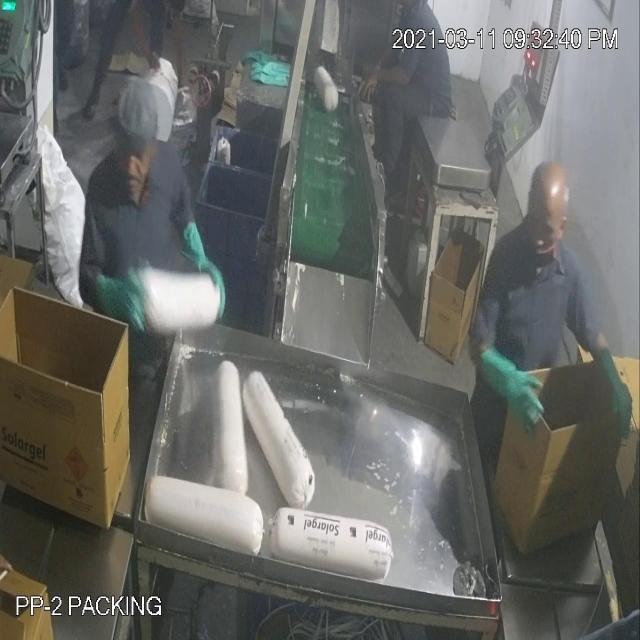Gloves: (26, 40, 618, 396)
